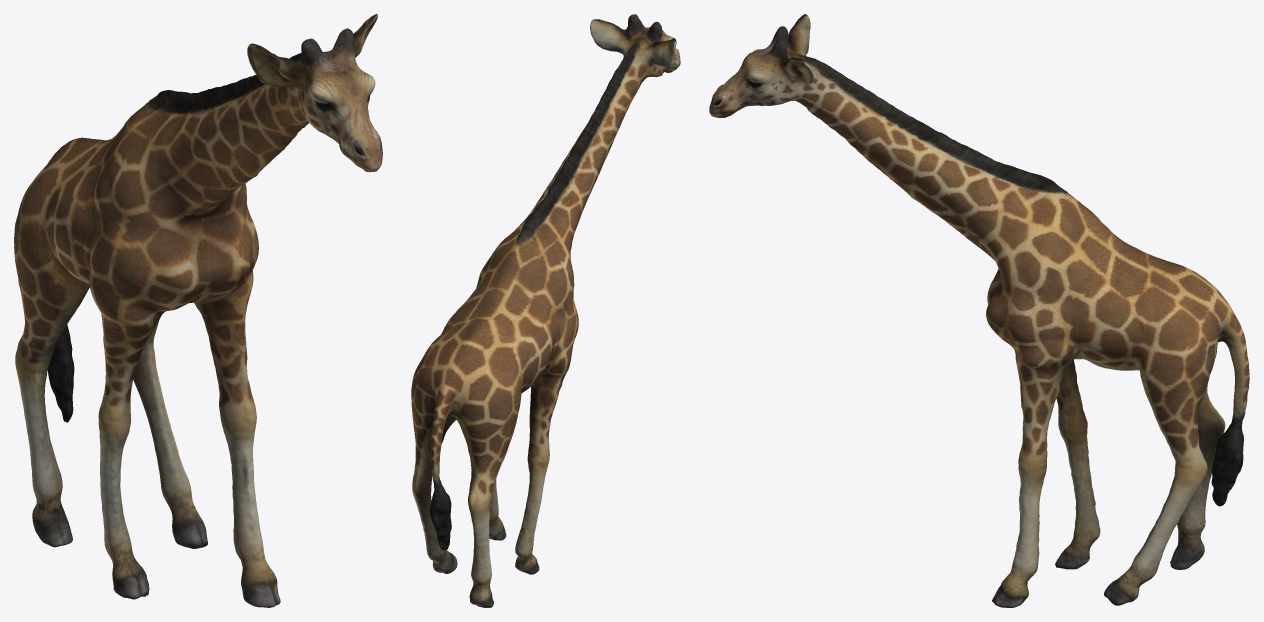
File: giraffe.glb
3 views of the same model, side by side, from view 1: azimuth 30°, elevation 25°; view 2: azimuth 150°, elevation 25°; view 3: azimuth 270°, elevation 25° (orthographic). The views are drawn at different scales.
Parts seen in each view (by area): view 1: Giraffe; view 2: Giraffe; view 3: Giraffe.
Boxes of the visible parts, <box> form: Giraffe: <box>14,14,382,607</box>; Giraffe: <box>411,14,680,607</box>; Giraffe: <box>709,14,1249,607</box>.
Size of the model in its own units: 0.9887 by 4.15 by 3.76.
1 material, 1 textured.
